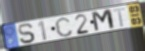1: (38, 20, 48, 41)
2: (74, 13, 91, 36)
C: (54, 16, 74, 38)
M: (91, 7, 117, 33)
S: (17, 23, 37, 45)
T: (112, 7, 126, 28)
